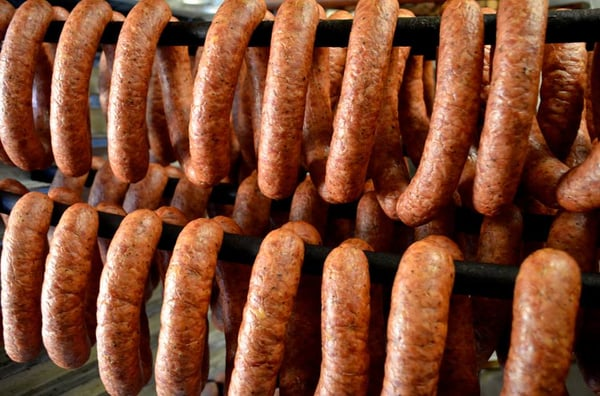burger: (227, 220, 307, 393), (153, 216, 226, 395), (255, 1, 319, 204), (94, 208, 163, 393), (105, 2, 173, 189), (48, 2, 114, 180), (0, 1, 65, 176), (41, 197, 100, 369), (0, 188, 55, 365), (315, 237, 372, 393)
